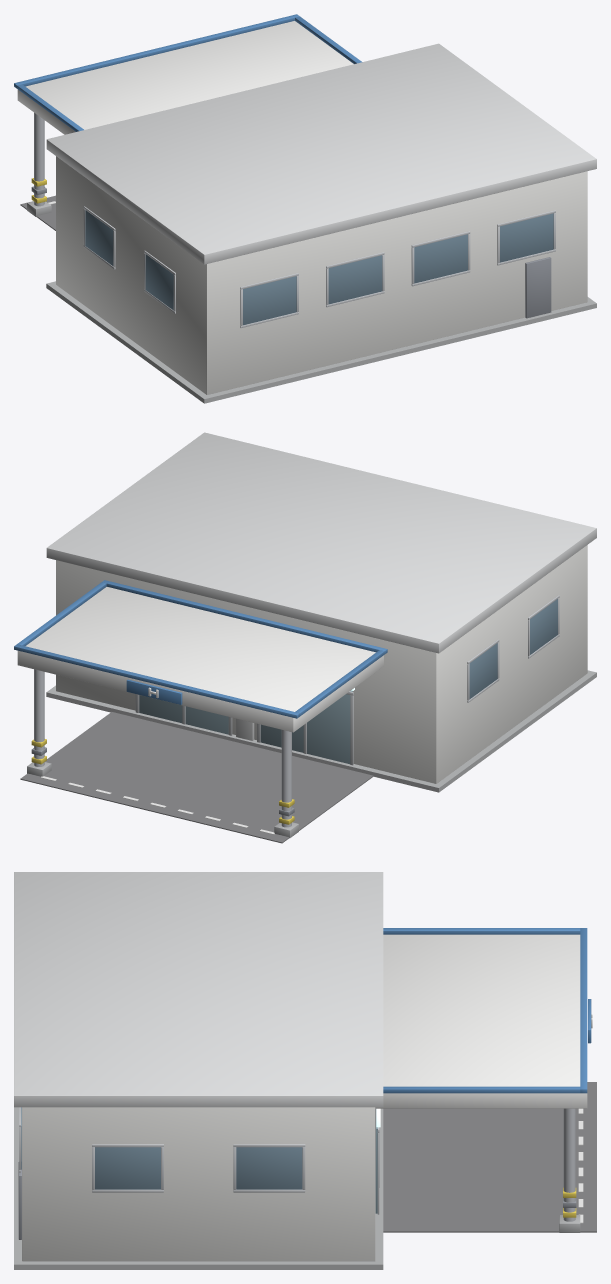
The model's file is th49_notaufnahme.glb.
3 views of the same model, one above another, from view 1: azimuth 30°, elevation 25°; view 2: azimuth 150°, elevation 25°; view 3: azimuth 270°, elevation 25° (orthographic). The views are drawn at different scales.
Parts seen in each view (by area): view 1: Cube.002, Cube.001, Cube.003, Cube, Cube.049, Cube.059, Cube.044, Cube.054, Cube.006, Cube.064, Cube.065, Cube.070 (+3 smaller); view 2: Cube.002, Cube.001, Cube.003, Cube.016, Cube, Cube.026, Cube.006, Cube.004, Cube.032, Cube.070, Cube.065, Cylinder (+4 smaller); view 3: Cube.002, Cube.001, Cube.003, Cube.016, Cube, Cube.080, Cube.075, Cube.007, Cube.005, Cube.006, Cylinder.001.
Boxes of the visible parts, x1=… form: Cube.002: x1=46, y1=43, x2=596, y2=264; Cube.001: x1=56, y1=156, x2=587, y2=394; Cube.003: x1=17, y1=21, x2=353, y2=134; Cube: x1=46, y1=281, x2=596, y2=403; Cube.049: x1=328, y1=255, x2=382, y2=304; Cube.059: x1=500, y1=213, x2=553, y2=262; Cube.044: x1=243, y1=276, x2=296, y2=325; Cube.054: x1=414, y1=234, x2=467, y2=283; Cube.006: x1=14, y1=14, x2=299, y2=88; Cube.064: x1=525, y1=257, x2=551, y2=318; Cube.065: x1=145, y1=254, x2=173, y2=310; Cube.070: x1=85, y1=210, x2=113, y2=265; Cube.002: x1=46, y1=432, x2=596, y2=653; Cube.001: x1=56, y1=545, x2=587, y2=783; Cube.003: x1=17, y1=587, x2=383, y2=732; Cube.016: x1=20, y1=712, x2=373, y2=843; Cube: x1=46, y1=670, x2=596, y2=792; Cube.026: x1=260, y1=691, x2=352, y2=764; Cube.006: x1=14, y1=644, x2=299, y2=718; Cube.004: x1=102, y1=580, x2=387, y2=653; Cube.032: x1=139, y1=695, x2=228, y2=734; Cube.070: x1=469, y1=643, x2=497, y2=698; Cube.065: x1=530, y1=599, x2=557, y2=654; Cylinder: x1=281, y1=730, x2=291, y2=827; Cube.002: x1=14, y1=872, x2=383, y2=1107; Cube.001: x1=22, y1=1107, x2=375, y2=1261; Cube.003: x1=375, y1=934, x2=587, y2=1108; Cube.016: x1=383, y1=1082, x2=596, y2=1232; Cube: x1=14, y1=1107, x2=383, y2=1269; Cube.080: x1=236, y1=1147, x2=302, y2=1189; Cube.075: x1=95, y1=1147, x2=160, y2=1189; Cube.007: x1=383, y1=1086, x2=580, y2=1093; Cube.005: x1=383, y1=928, x2=580, y2=934; Cube.006: x1=580, y1=928, x2=587, y2=1093; Cylinder.001: x1=563, y1=1108, x2=575, y2=1221.
Size of the model in its own units: 16.5 by 5.98 by 18.15.
